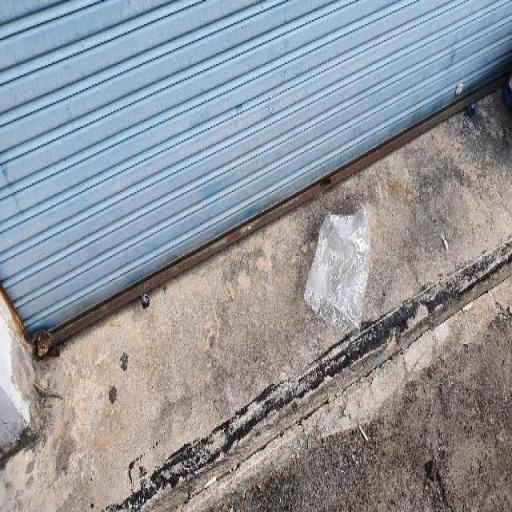plastic-bag: (302, 208, 372, 336)
